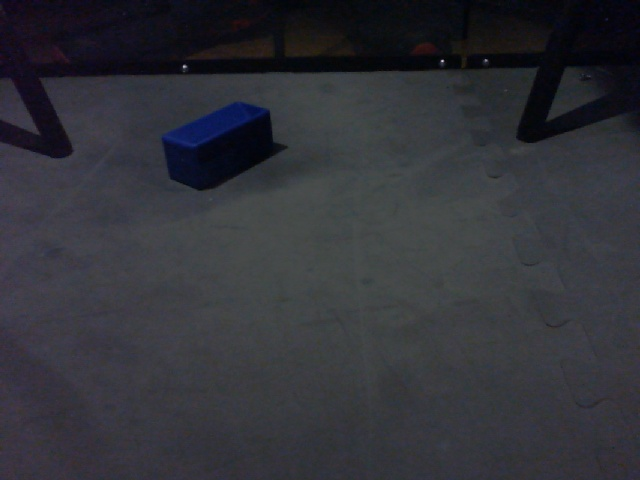BlueSample: (158, 98, 280, 195)
